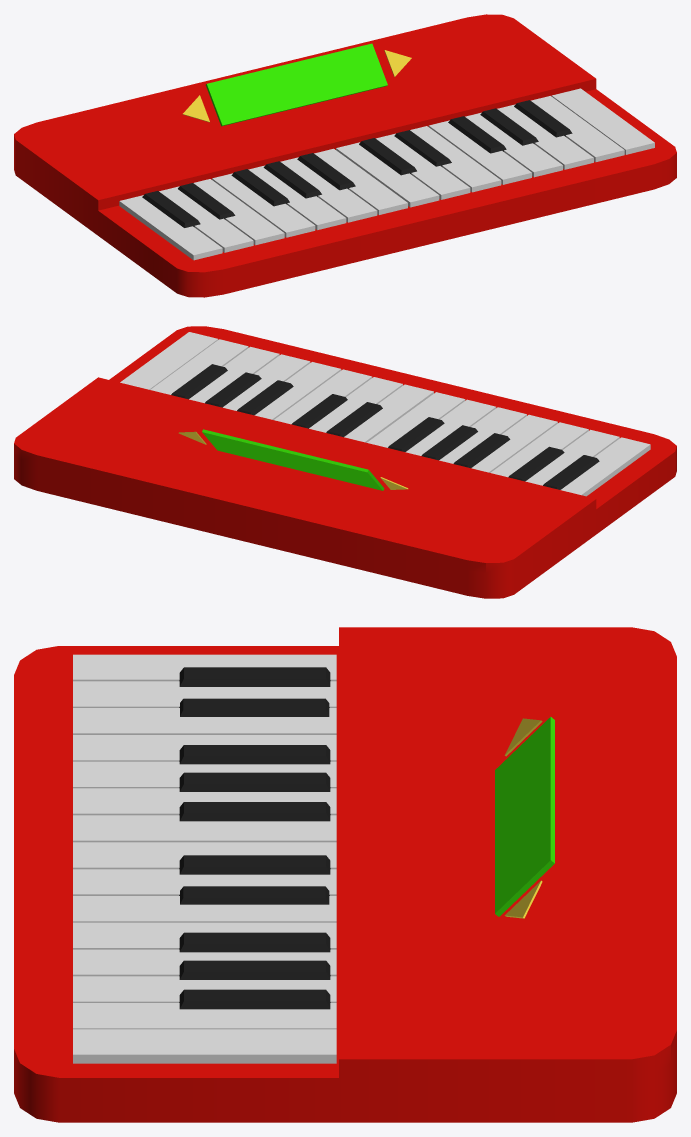
File: smaller_piano.gltf
3 views of the same model, one above another, from view 1: azimuth 30°, elevation 25°; view 2: azimuth 150°, elevation 25°; view 3: azimuth 270°, elevation 25° (orthographic). The views are drawn at different scales.
Visible parts, largest first — view 1: Piano Frame, Screen, Key_C5, Key_C3, Key_C4, Key_B4, Key_B3, Key_F3, Key_F4, Key_E4, Key_E3, Key_D3 (+15 smaller); view 2: Piano Frame, Screen, Key_C5, Key_C3, Key_C4, Key_B3, Key_B4, Key_F4, Key_F3, Key_E4, Key_E3, Key_D3 (+15 smaller); view 3: Piano Frame, Key_C5, Screen, Key_B3, Key_B4, Key_E4, Key_E3, Key_C3, Key_C4, Key_D4, Key_D3, Key_F4 (+15 smaller).
Part boxes in pixels (box(x1,y1,x2,y2)): Piano Frame: box(14, 14, 676, 297); Screen: box(205, 43, 387, 126); Key_C5: box(551, 88, 654, 154); Key_C3: box(119, 195, 222, 260); Key_C4: box(336, 142, 439, 207); Key_B4: box(531, 96, 624, 162); Key_B3: box(314, 148, 407, 214); Key_F3: box(212, 173, 315, 237); Key_F4: box(428, 120, 531, 184); Key_E4: box(410, 126, 501, 192); Key_E3: box(193, 179, 284, 245); Key_D3: box(159, 186, 253, 252); Piano Frame: box(14, 326, 676, 598); Screen: box(202, 429, 384, 490); Key_C5: box(120, 332, 218, 389); Key_C3: box(561, 437, 650, 496); Key_C4: box(344, 384, 433, 442); Key_B3: box(367, 392, 465, 447); Key_B4: box(150, 339, 248, 394); Key_F4: box(254, 362, 341, 419); Key_F3: box(471, 414, 557, 472); Key_E4: box(274, 369, 372, 424); Key_E3: box(491, 422, 588, 477); Key_D3: box(525, 429, 619, 485); Piano Frame: box(14, 627, 676, 1122); Key_C5: box(73, 1029, 336, 1063); Screen: box(495, 717, 554, 916); Key_B3: box(73, 815, 336, 842); Key_B4: box(73, 1003, 336, 1029); Key_E4: box(73, 896, 336, 922); Key_E3: box(73, 708, 336, 734); Key_C3: box(73, 654, 336, 681); Key_C4: box(73, 842, 336, 869); Key_D4: box(73, 869, 336, 895); Key_D3: box(73, 681, 336, 707); Key_F4: box(73, 922, 336, 949).
Size of the model in its own units: 4.26 by 0.5519 by 2.77.
